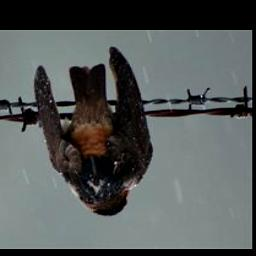Swallow: (32, 45, 154, 217)
